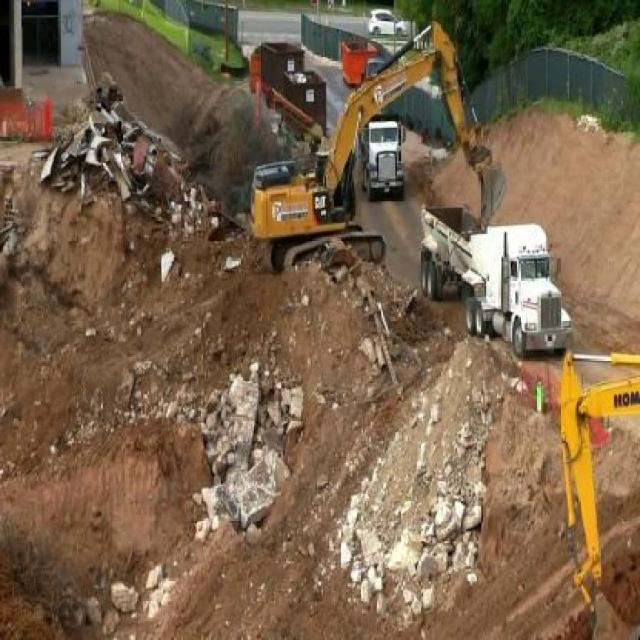dump_truck: (418, 203, 572, 354), (358, 120, 402, 200)
excavator: (251, 17, 507, 272), (558, 344, 639, 639)
